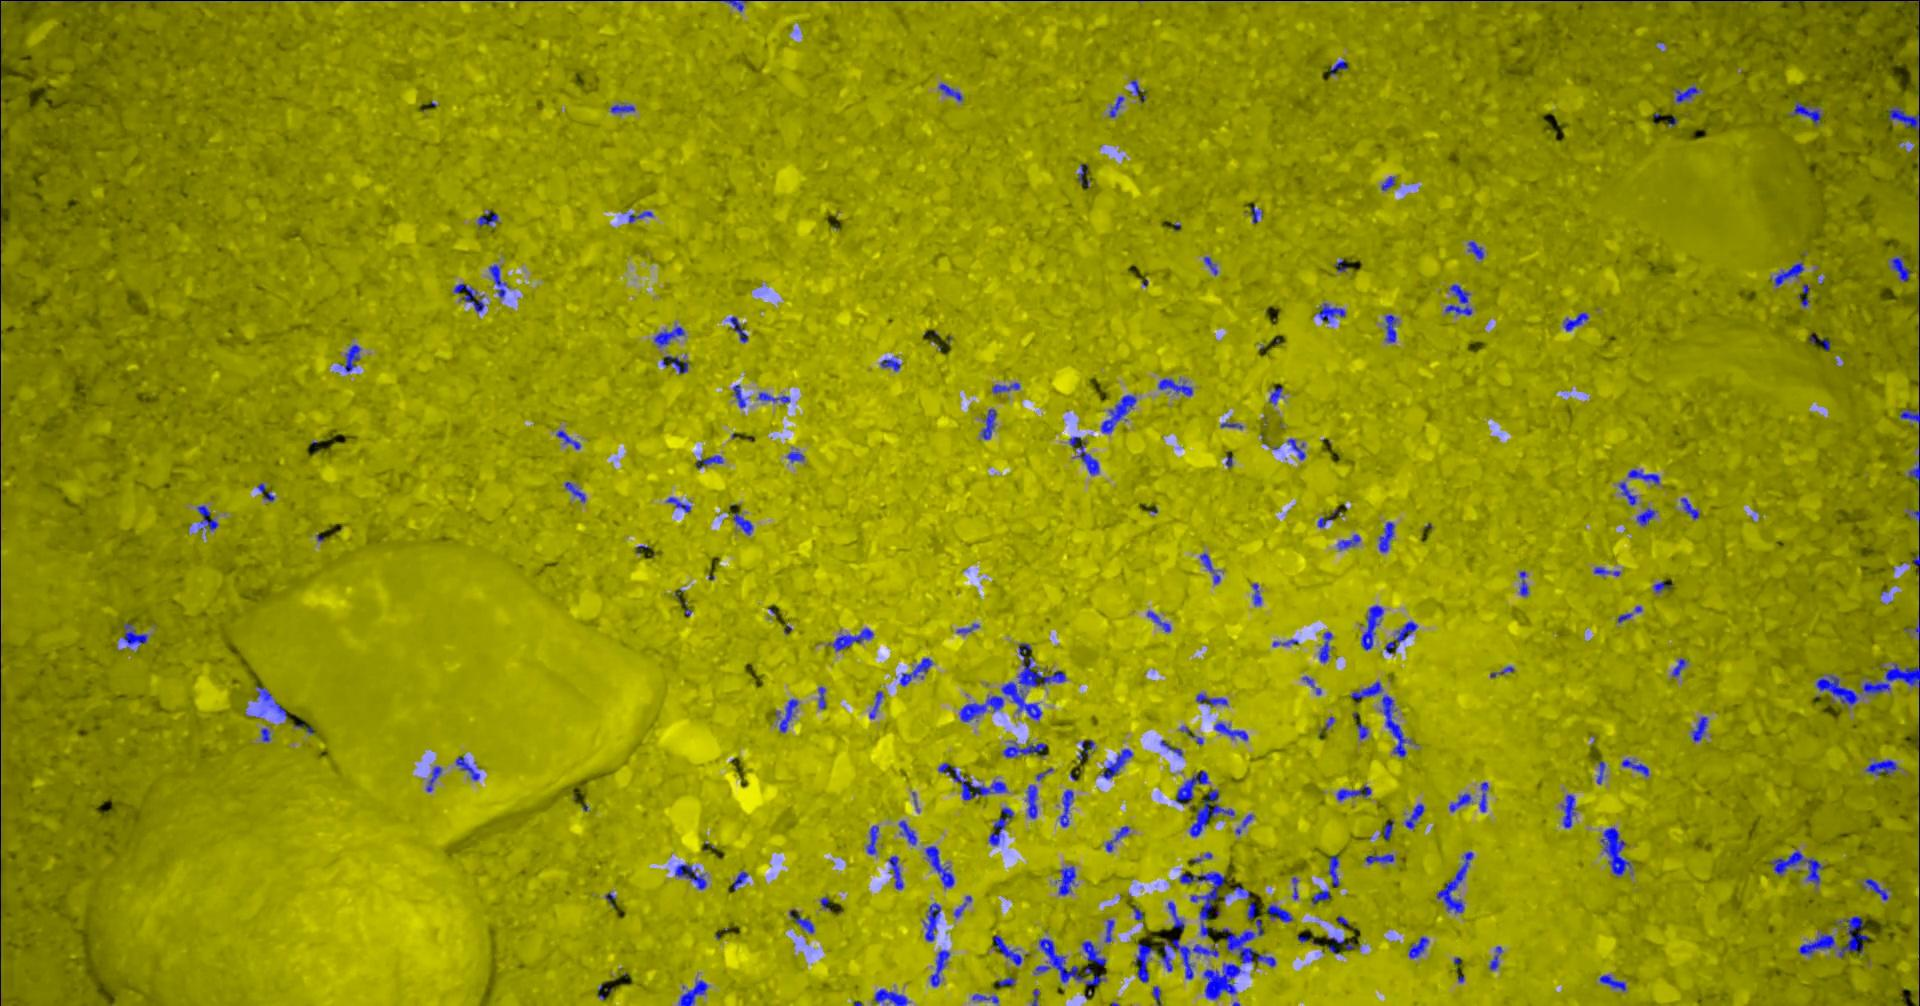ant: (959, 681, 1041, 721), (1178, 871, 1224, 936), (1220, 920, 1275, 967), (937, 762, 1006, 799), (1161, 937, 1218, 979), (1436, 851, 1473, 912), (1034, 937, 1083, 982), (1189, 789, 1234, 836), (1017, 643, 1065, 687), (1769, 848, 1823, 884), (1382, 694, 1411, 757), (1862, 663, 1919, 694), (1203, 962, 1243, 998), (1600, 827, 1630, 875), (1100, 394, 1137, 433), (1837, 915, 1868, 956), (924, 845, 954, 888), (1816, 674, 1858, 704), (1068, 436, 1098, 474), (1175, 770, 1208, 804), (1384, 621, 1417, 653), (1891, 0, 1919, 37), (828, 627, 872, 650), (1887, 105, 1919, 137), (257, 686, 287, 719), (988, 807, 1013, 845), (1361, 605, 1383, 649), (1101, 748, 1131, 779), (992, 934, 1021, 965), (899, 657, 932, 685), (1133, 942, 1154, 982), (1444, 283, 1470, 315), (674, 862, 706, 889), (453, 283, 483, 311), (1770, 262, 1803, 286), (1790, 99, 1821, 124), (1798, 934, 1834, 955), (678, 979, 707, 1005), (1002, 741, 1045, 757), (930, 949, 949, 986), (922, 902, 940, 941), (1350, 681, 1382, 702), (488, 264, 508, 297), (1213, 721, 1247, 741), (1157, 379, 1192, 396), (778, 699, 797, 732), (1199, 553, 1219, 583), (455, 754, 479, 780), (1105, 826, 1129, 851), (1081, 940, 1105, 965), (653, 326, 684, 345), (1055, 866, 1076, 895), (872, 988, 908, 1005), (123, 622, 147, 647), (339, 344, 361, 371), (789, 909, 813, 932), (1326, 936, 1359, 953), (1378, 521, 1394, 553), (888, 855, 903, 889), (1864, 878, 1887, 901), (1890, 257, 1911, 281), (196, 506, 217, 530), (1145, 610, 1170, 631), (1059, 789, 1073, 826), (1318, 304, 1345, 323), (662, 354, 688, 373), (1167, 901, 1183, 931), (1563, 312, 1589, 332), (980, 408, 996, 439), (1627, 469, 1658, 484), (1865, 760, 1897, 775), (1404, 803, 1423, 828), (1336, 786, 1370, 800), (729, 316, 747, 342), (1672, 85, 1699, 102), (1622, 760, 1648, 776), (1599, 974, 1625, 991), (731, 512, 752, 533), (1408, 936, 1429, 958), (1680, 497, 1699, 520), (938, 83, 963, 100), (556, 431, 580, 448), (1618, 481, 1636, 506), (1318, 631, 1332, 662), (1562, 794, 1575, 827), (1266, 904, 1291, 921), (564, 481, 585, 500), (952, 895, 971, 917), (1449, 793, 1472, 810), (898, 821, 916, 843), (665, 495, 690, 512), (1026, 784, 1037, 818), (869, 690, 883, 718), (1286, 438, 1305, 459), (425, 766, 441, 791), (1327, 854, 1338, 887), (1691, 716, 1707, 741), (1195, 694, 1227, 705), (477, 210, 498, 227), (1636, 507, 1656, 525), (1384, 314, 1397, 342), (695, 455, 723, 467), (865, 826, 877, 854), (1130, 79, 1145, 102), (1810, 334, 1830, 351), (1898, 409, 1919, 426), (1337, 533, 1359, 549), (1161, 741, 1182, 756), (757, 392, 789, 403), (731, 384, 745, 406), (257, 483, 274, 500), (1467, 240, 1483, 259), (1109, 97, 1124, 117), (1077, 163, 1090, 187), (971, 993, 998, 1005), (1364, 854, 1393, 864), (731, 871, 747, 890), (1310, 889, 1330, 904), (1488, 946, 1501, 969), (1478, 782, 1488, 810), (721, 0, 745, 11), (1330, 60, 1347, 75), (992, 382, 1018, 392), (1671, 658, 1686, 676), (1203, 257, 1217, 276), (629, 211, 651, 222), (880, 358, 900, 371), (1269, 386, 1283, 404), (1592, 567, 1620, 575), (1103, 920, 1114, 942), (1250, 206, 1262, 224), (1272, 638, 1298, 647), (1251, 583, 1261, 605), (1653, 580, 1672, 592), (1084, 973, 1103, 984), (610, 103, 634, 112), (1383, 819, 1393, 840), (1519, 572, 1528, 594), (1380, 177, 1394, 191), (1909, 461, 1919, 480), (1355, 723, 1368, 738), (996, 976, 1015, 986), (1150, 986, 1161, 1005), (786, 451, 803, 462), (818, 686, 825, 708), (1246, 902, 1255, 920), (260, 727, 270, 741), (1820, 0, 1884, 1)
